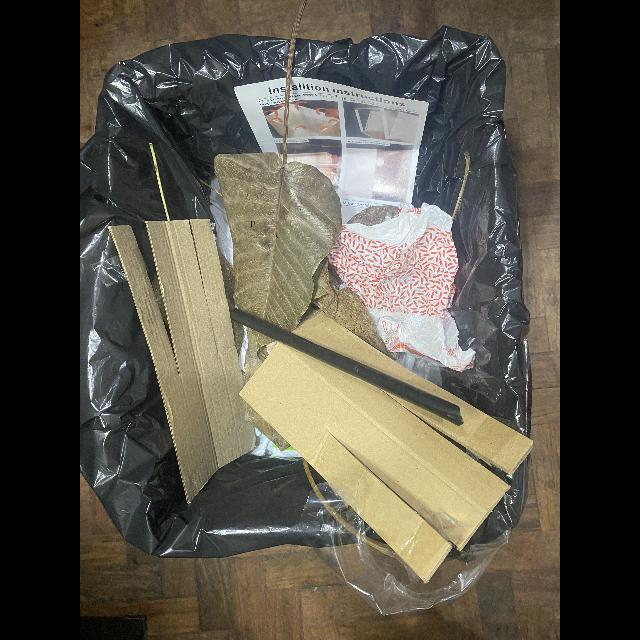biowaste: (214, 0, 342, 386)
paper: (239, 310, 533, 583), (108, 219, 257, 504), (233, 77, 429, 224)
wrapper: (328, 203, 476, 374)
